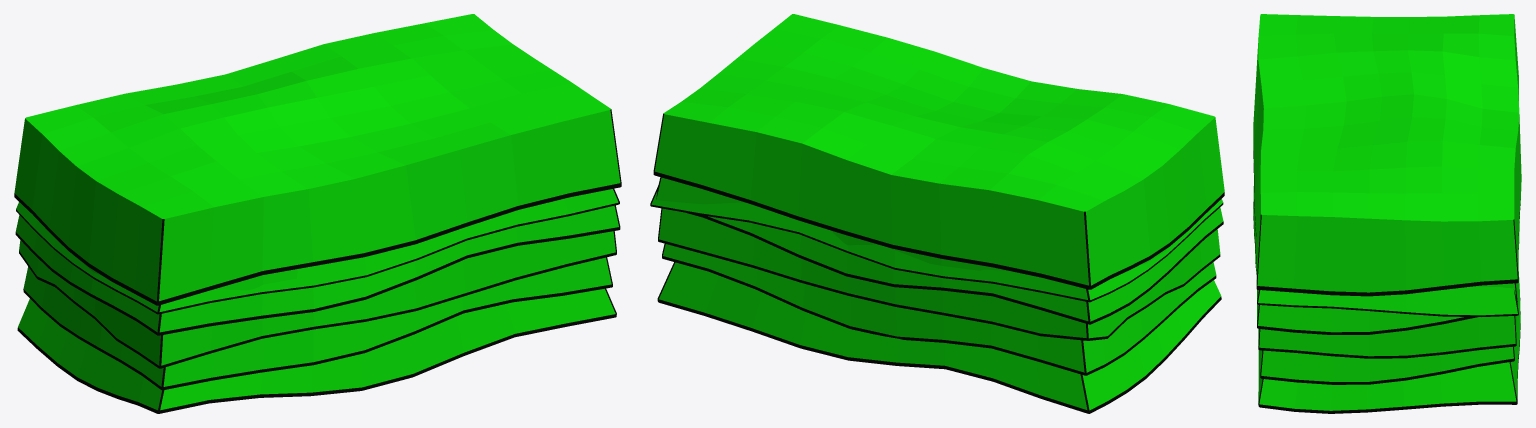
File: Bush.fbx
3 renders of one model, left to right at view 1: azimuth 30°, elevation 25°; view 2: azimuth 150°, elevation 25°; view 3: azimuth 270°, elevation 25°, orthographic. The views are drawn at different scales.
Visible parts, largest first — view 1: Cube.073; view 2: Cube.073; view 3: Cube.073.
Boxes of the visible parts, x1,y1,x2,y2 form: Cube.073: (14, 14, 621, 413); Cube.073: (650, 14, 1224, 413); Cube.073: (1253, 14, 1521, 413).
Bounding box in the file's own units: 300 × 138 × 161.
